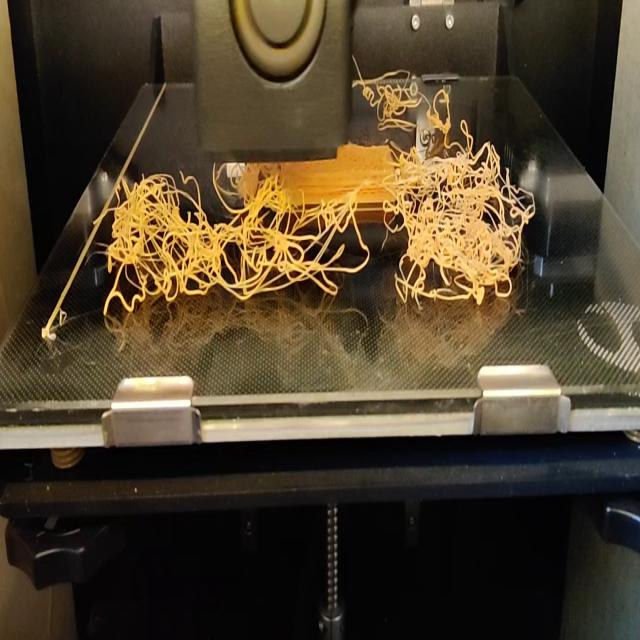spaghetti: (92, 159, 536, 322), (352, 52, 500, 160)
